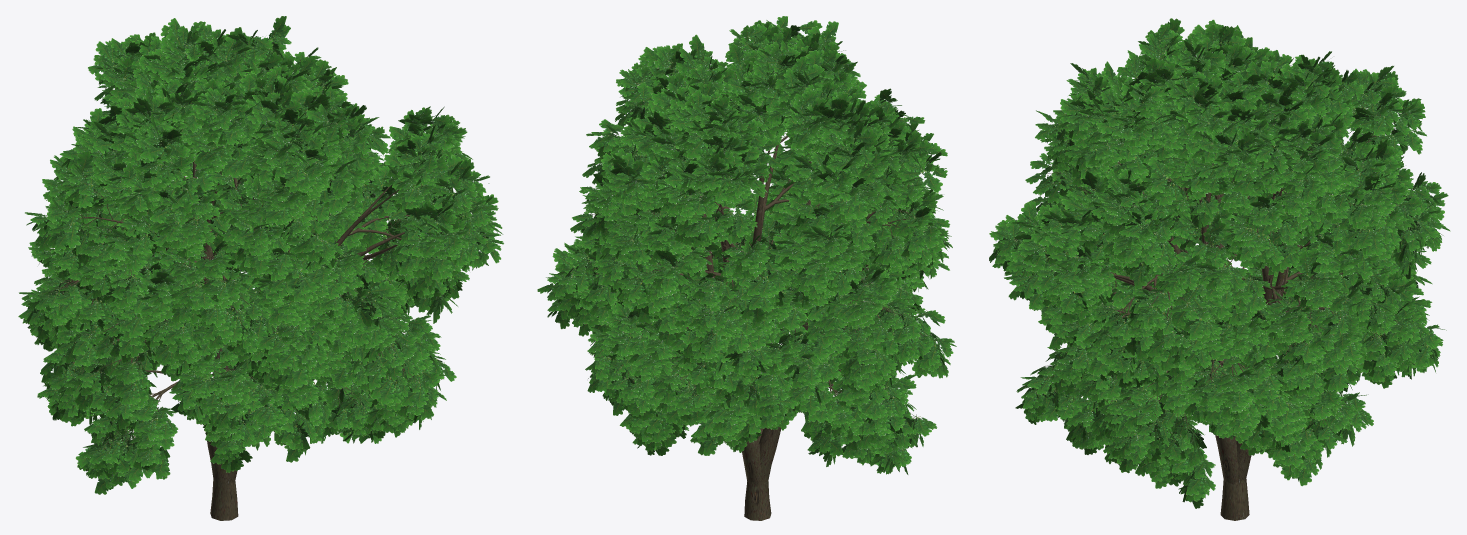
The model's file is oak2.fbx.
3 renders of one model, left to right at view 1: azimuth 30°, elevation 25°; view 2: azimuth 150°, elevation 25°; view 3: azimuth 270°, elevation 25°, orthographic. The views are drawn at different scales.
Parts seen in each view (by area): view 1: leaves, tree; view 2: leaves, tree; view 3: leaves, tree.
Boxes of the visible parts, <box> form: leaves: <box>18,16,503,494</box>; tree: <box>45,41,473,520</box>; leaves: <box>537,16,956,474</box>; tree: <box>568,38,940,520</box>; leaves: <box>989,18,1450,508</box>; tree: <box>1014,43,1423,520</box>.
Bounding box in the file's own units: 1578 × 1760 × 1557.
Materials: 2 (2 with a texture image).
